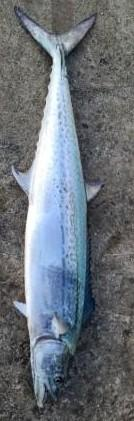fish: (11, 8, 103, 411)
